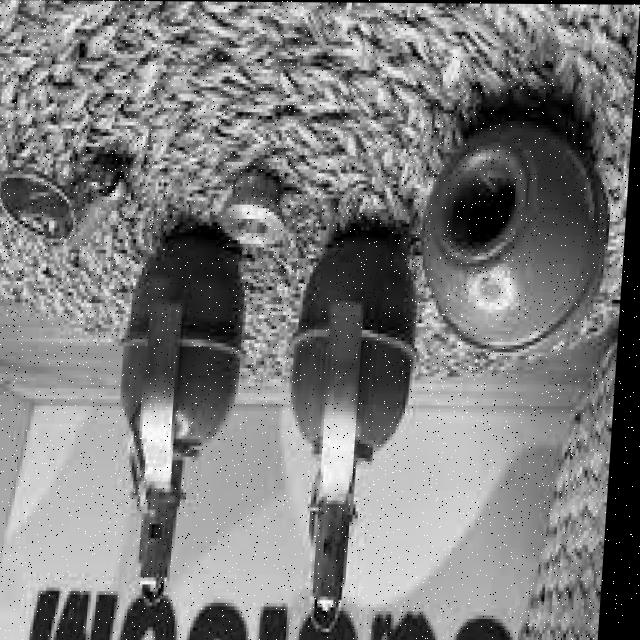grenade: (262, 244, 428, 636), (415, 111, 630, 400), (100, 237, 261, 612), (0, 150, 131, 274)
